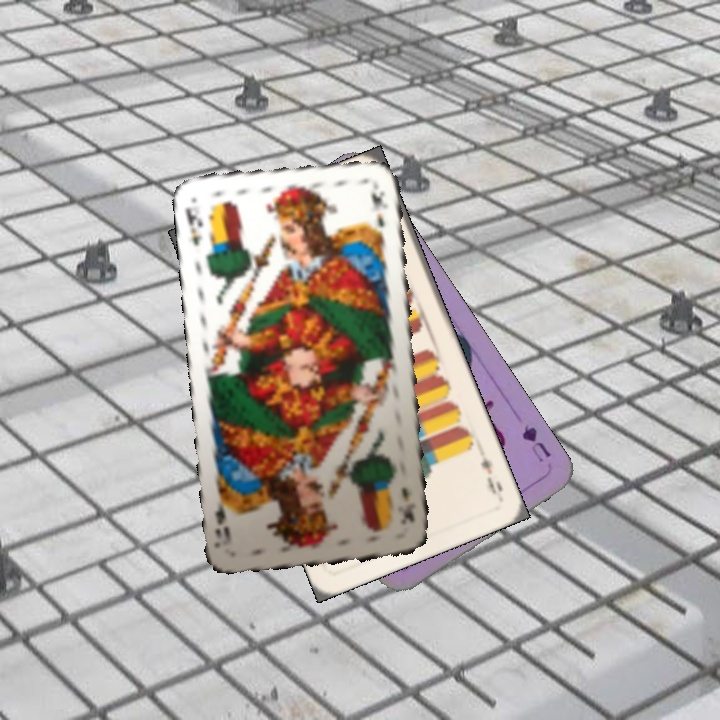E9: (477, 454, 505, 498)
EK: (181, 203, 205, 249), (397, 483, 418, 527)
GU: (518, 420, 554, 465)
